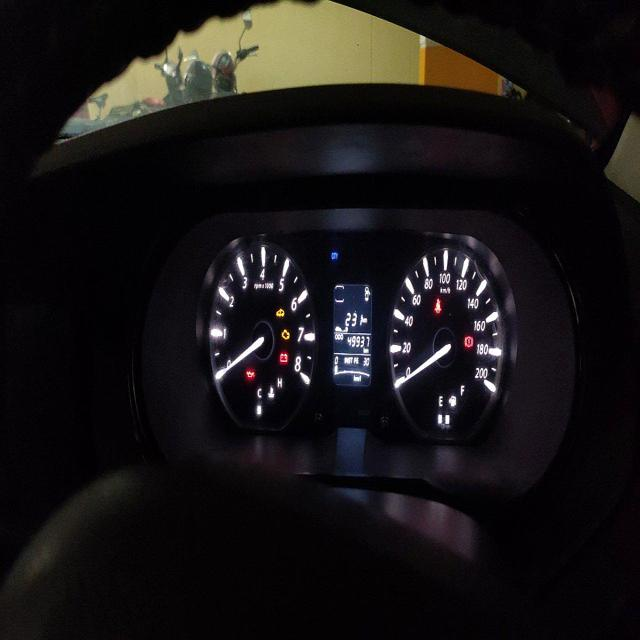odometer: (347, 333, 370, 349)
